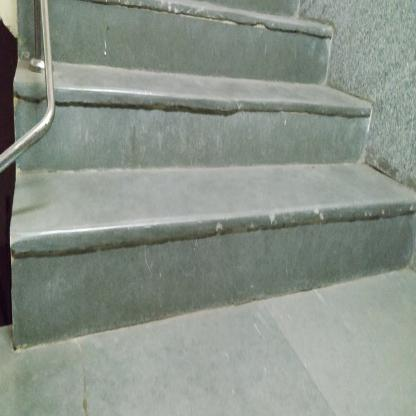stairs: (129, 12, 326, 336)
